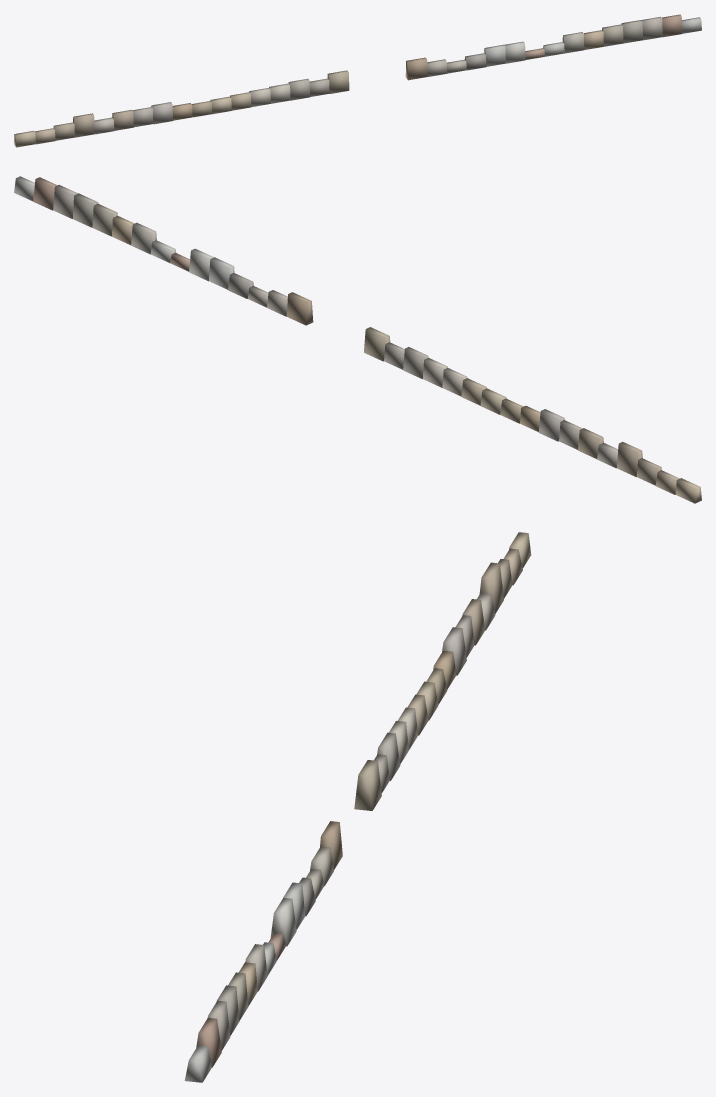
Rendered from farm_12_21_collision.glb.
3 views of the same model, one above another, from view 1: azimuth 30°, elevation 25°; view 2: azimuth 150°, elevation 25°; view 3: azimuth 270°, elevation 25° (orthographic). The views are drawn at different scales.
Parts seen in each view (by area): view 1: geometry_0; view 2: geometry_0; view 3: geometry_0.
Part boxes in pixels (bbox=[...]): geometry_0: bbox=[14, 14, 701, 147]; geometry_0: bbox=[14, 176, 701, 503]; geometry_0: bbox=[184, 532, 531, 1082].
Bounding box in the file's own units: 53.48 × 3.93 × 13.27.
